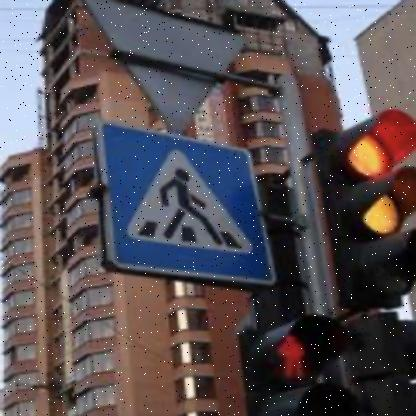Pedestrian Crossing: (108, 129, 270, 279)
